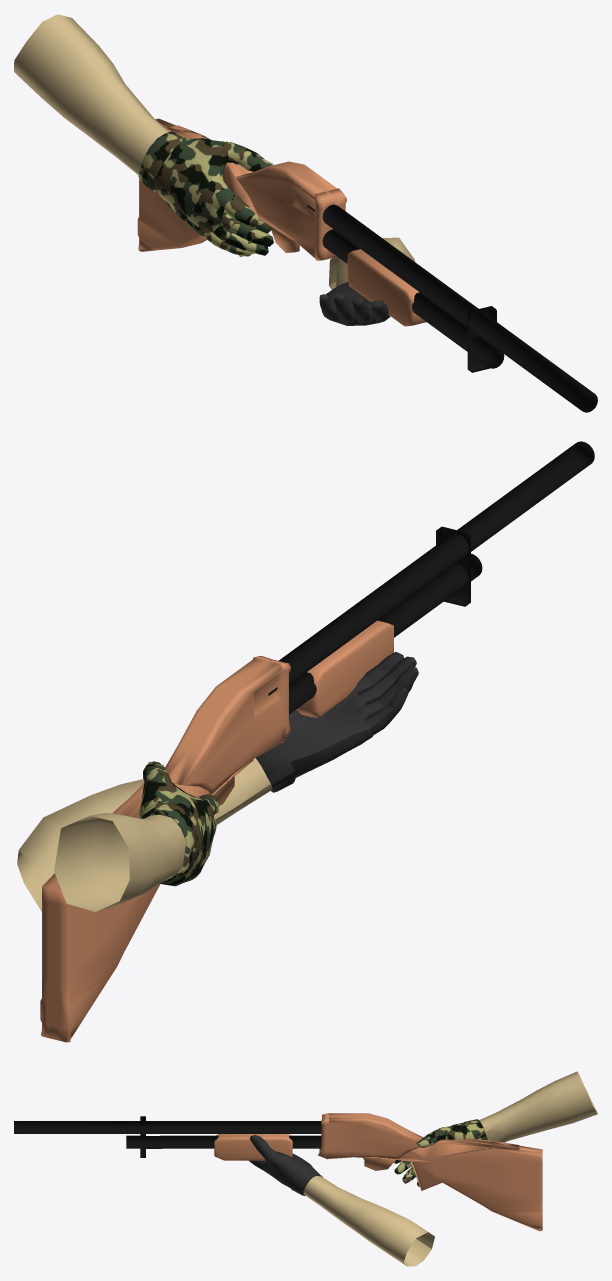
File: hands-shotgun5.fbx
The picture shows the model from 3 angles, top to bottom: view 1: azimuth 30°, elevation 25°; view 2: azimuth 150°, elevation 25°; view 3: azimuth 270°, elevation 25°; orthographic projection. The views are drawn at different scales.
Visible parts, largest first — view 1: UA, Plane03.001, F5c, Plane03.005, Plane03.003, Plane03, Plane03.004; view 2: Plane03.001, Plane03.003, UA, Plane03.005, F5c, Plane03, Plane03.004; view 3: Plane03.001, Plane03.003, UA, Plane03.005, Plane03, F5c.
Part boxes in pixels (box(x1,y1,x2,y2)): UA: box(14, 14, 169, 174); Plane03.001: box(137, 118, 346, 260); F5c: box(138, 132, 273, 256); Plane03.005: box(307, 204, 597, 412); Plane03.003: box(319, 237, 426, 326); Plane03: box(322, 229, 504, 368); Plane03.004: box(467, 306, 496, 372); Plane03.001: box(40, 656, 291, 1042); Plane03.003: box(17, 620, 418, 911); UA: box(54, 813, 186, 911); Plane03.005: box(268, 441, 594, 695); F5c: box(139, 761, 219, 886); Plane03: box(289, 553, 482, 714); Plane03.004: box(436, 526, 470, 606); Plane03.001: box(318, 1113, 542, 1231); Plane03.003: box(214, 1134, 434, 1266); UA: box(479, 1071, 597, 1142); Plane03.005: box(14, 1121, 321, 1133); Plane03: box(126, 1135, 321, 1148); F5c: box(394, 1119, 487, 1186).
Bounding box in the file's own units: 7.82 × 7.28 × 27.17.
9 materials, 1 textured.
